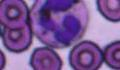N: (30, 0, 88, 47)
